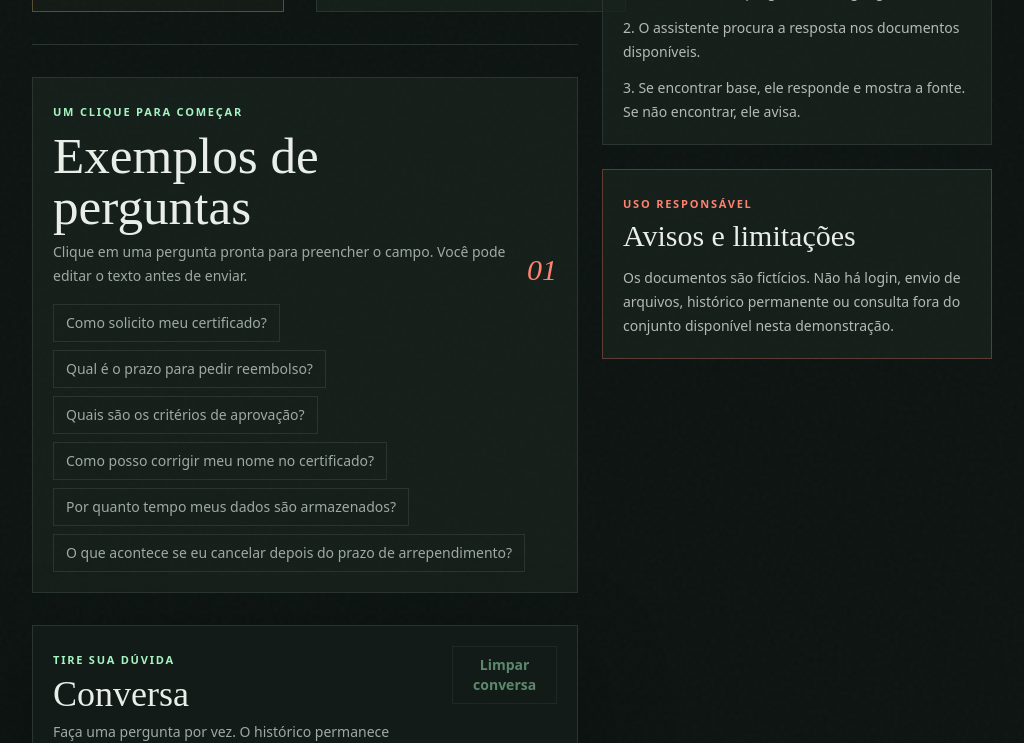
Scenario: EduDocsApp › preenche campo por exemplo
(page scrolled)
What coordinates should you click on to do the following:
click the button "Qual é o prazo para pedir reembolso?"
I would click on:
 (189, 369)
Its box is [53,350,326,388].
(page scrolled)
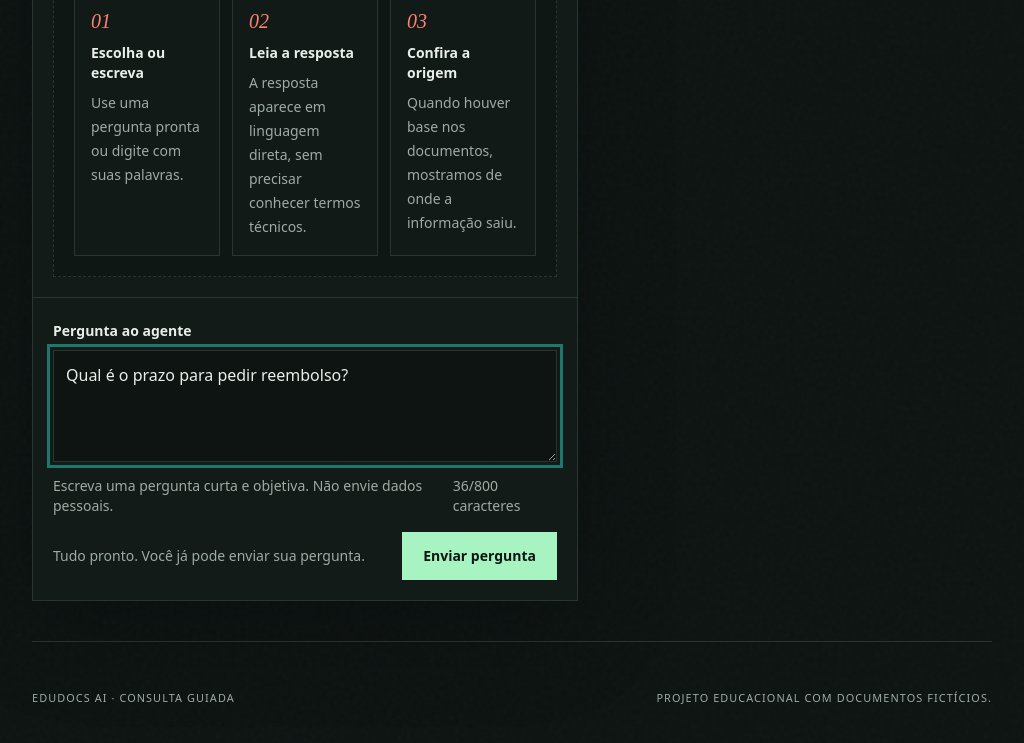
Now the text box labelled "Pergunta ao agente" holds "Qual é o prazo para pedir reembolso?", box [53,350,557,462]
